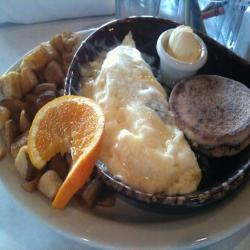bread: (168, 72, 250, 154)
omelette: (81, 50, 201, 200)
